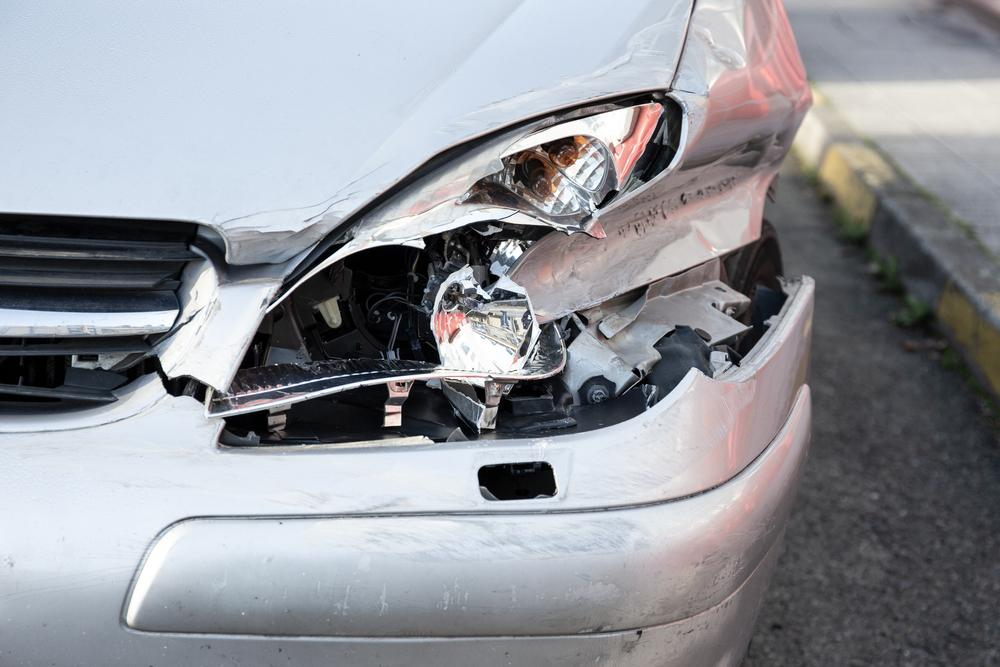crack: (118, 353, 221, 411)
dent: (509, 110, 795, 322), (675, 8, 743, 93)
lamp broken: (214, 92, 686, 410)
scratch: (287, 480, 647, 559)
